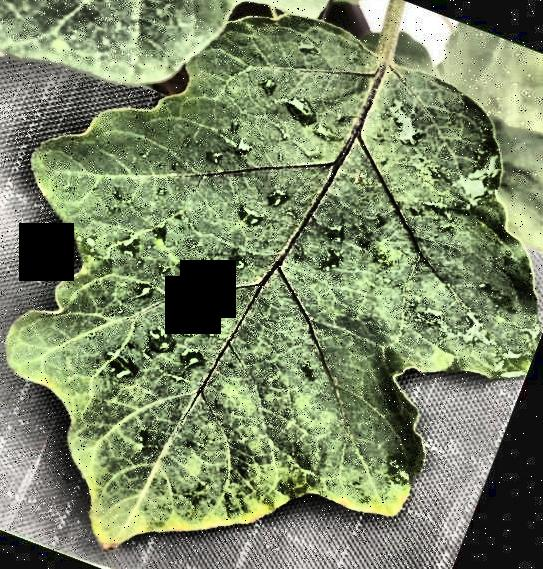Non-critical Stress: (0, 1, 543, 569)
